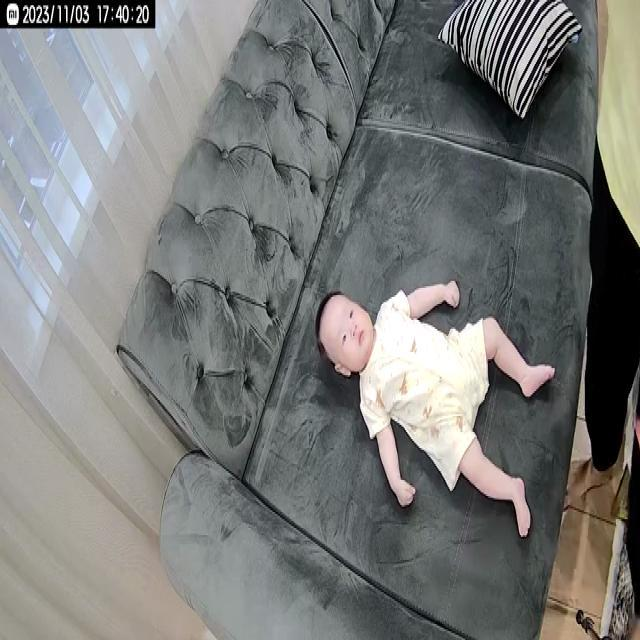baby: (313, 274, 556, 545)
